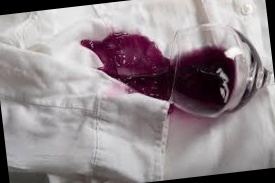wine: (90, 30, 219, 112), (82, 24, 162, 85)
